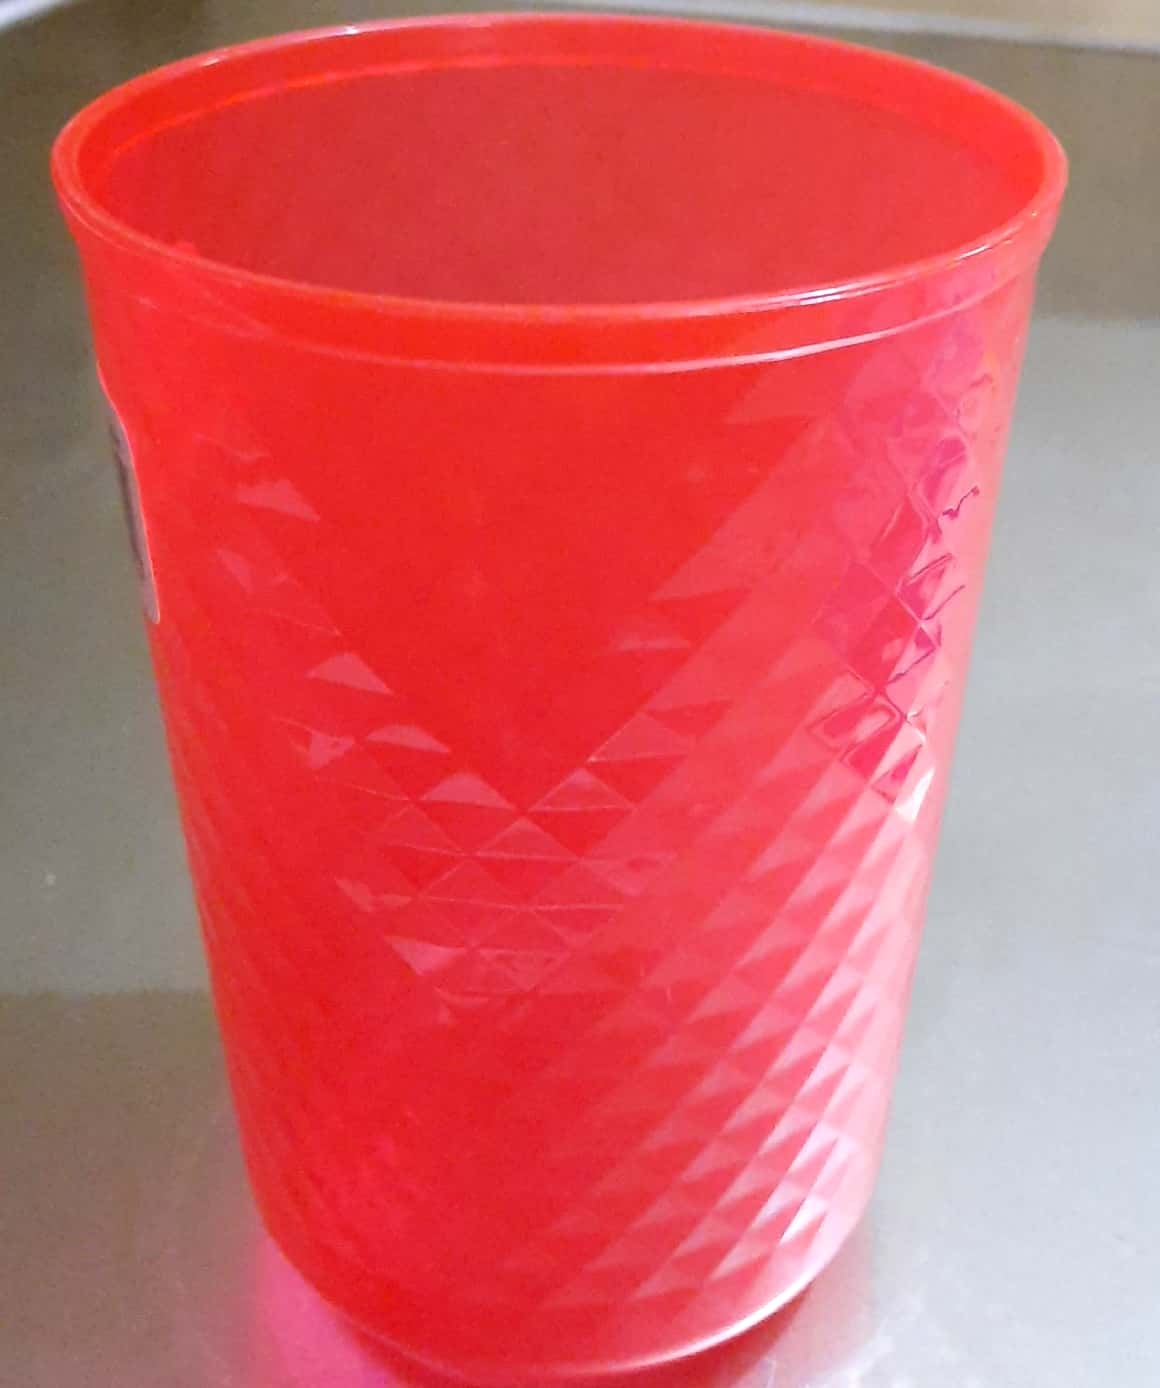plastic_glass: (33, 1, 1090, 1388)
